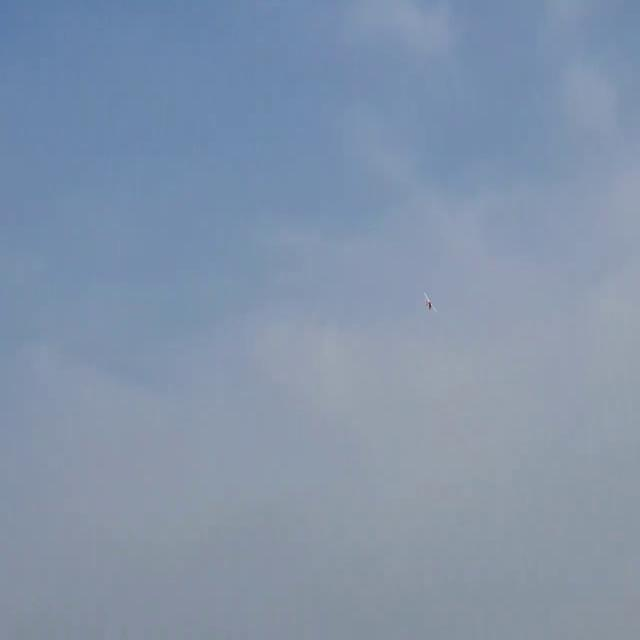iha: (421, 290, 438, 317)
